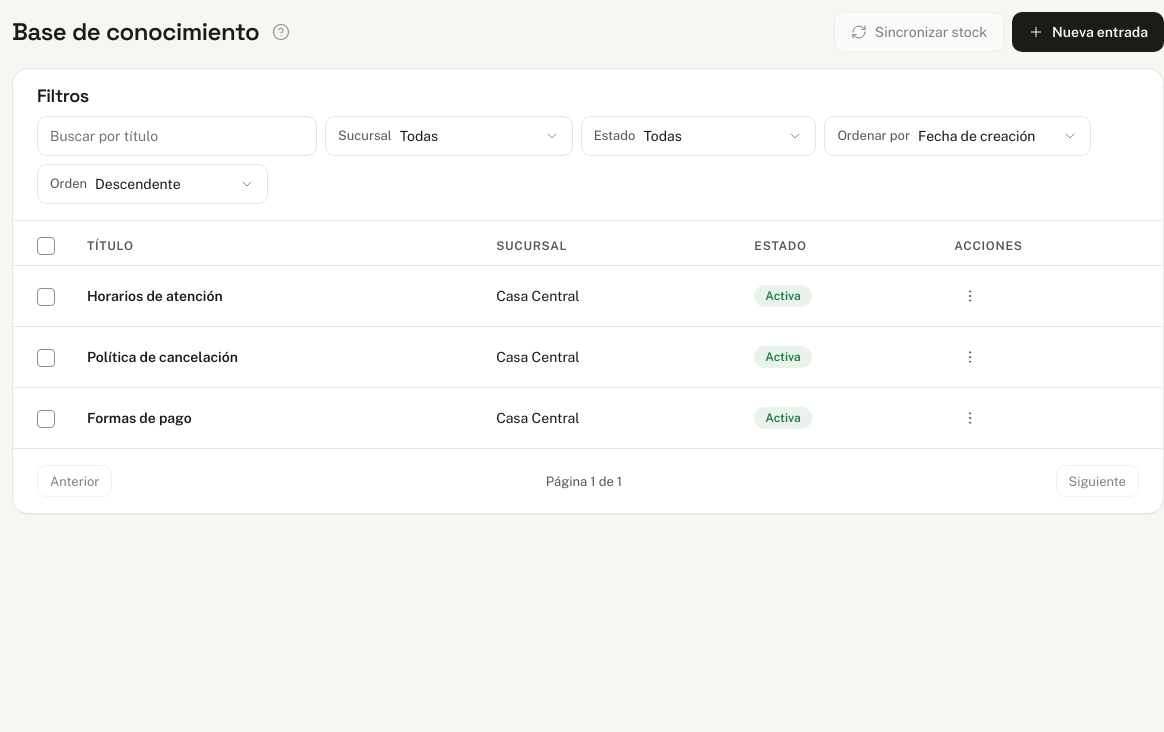
KnowledgeBaseListPage — selección múltiple › la casilla del encabezado tilda y destilda todas las de la página
This screenshot has width=1164, height=732.
Expected: the text "Horarios de atención" is shown, [71,266,480,327]
Click the checkbox named "Seleccionar todas las de esta página". click: (46, 246)
box: [37,237,55,255]
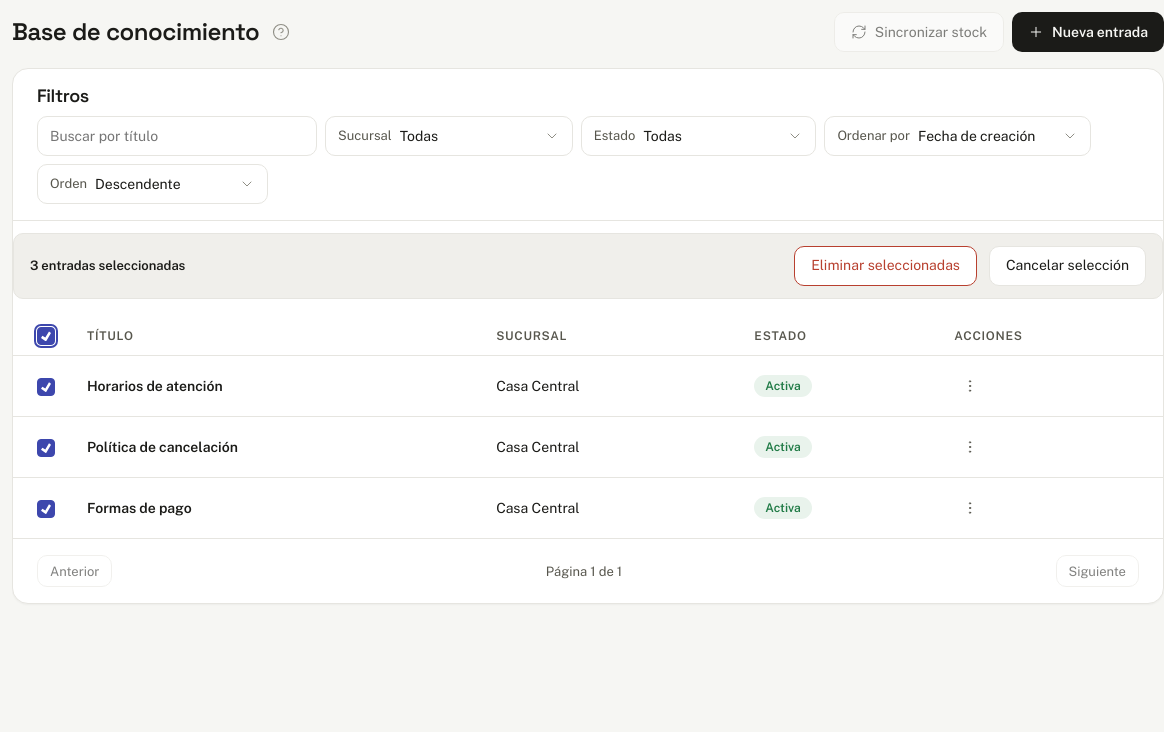
Result: the text "3 entradas seleccionadas" is shown at [30,256,185,275]
Click the checkbox named "Seleccionar todas las de esta página". click: (46, 336)
box: [37,327,55,345]
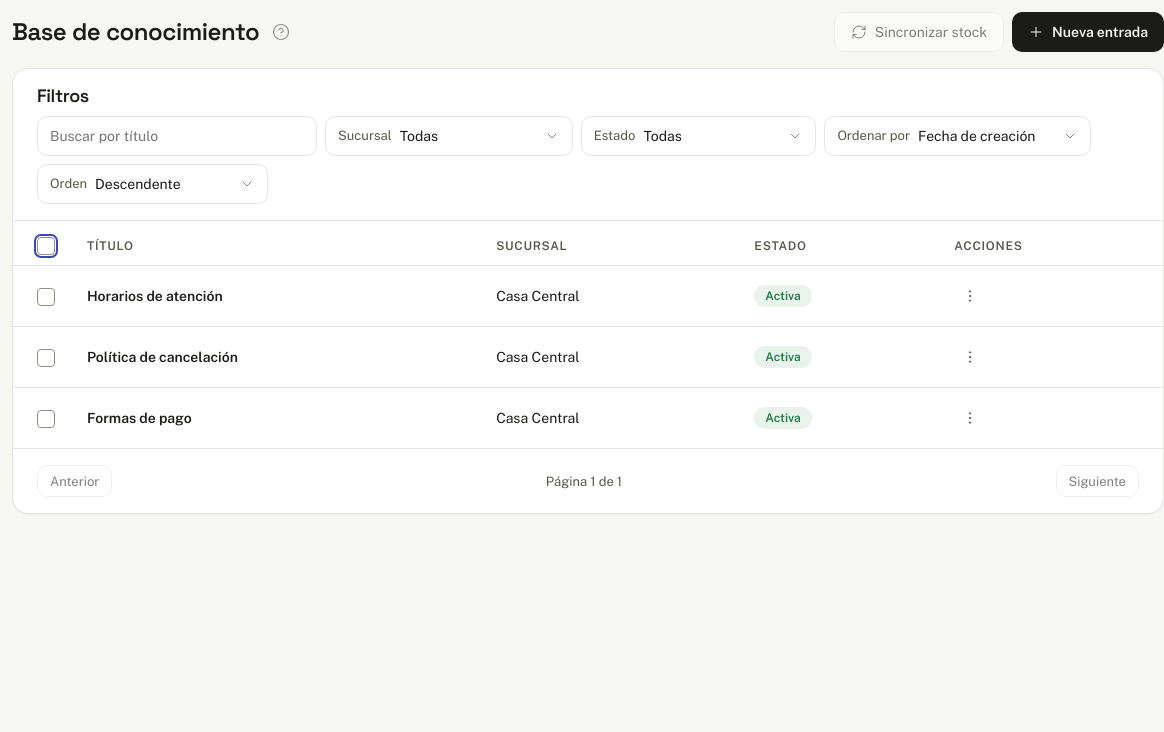
Result: the text "seleccionada" is gone
